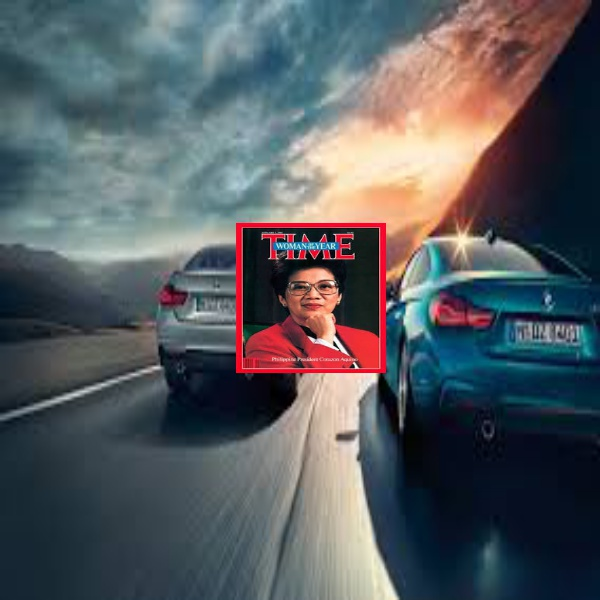time_cover: (244, 219, 387, 375)
